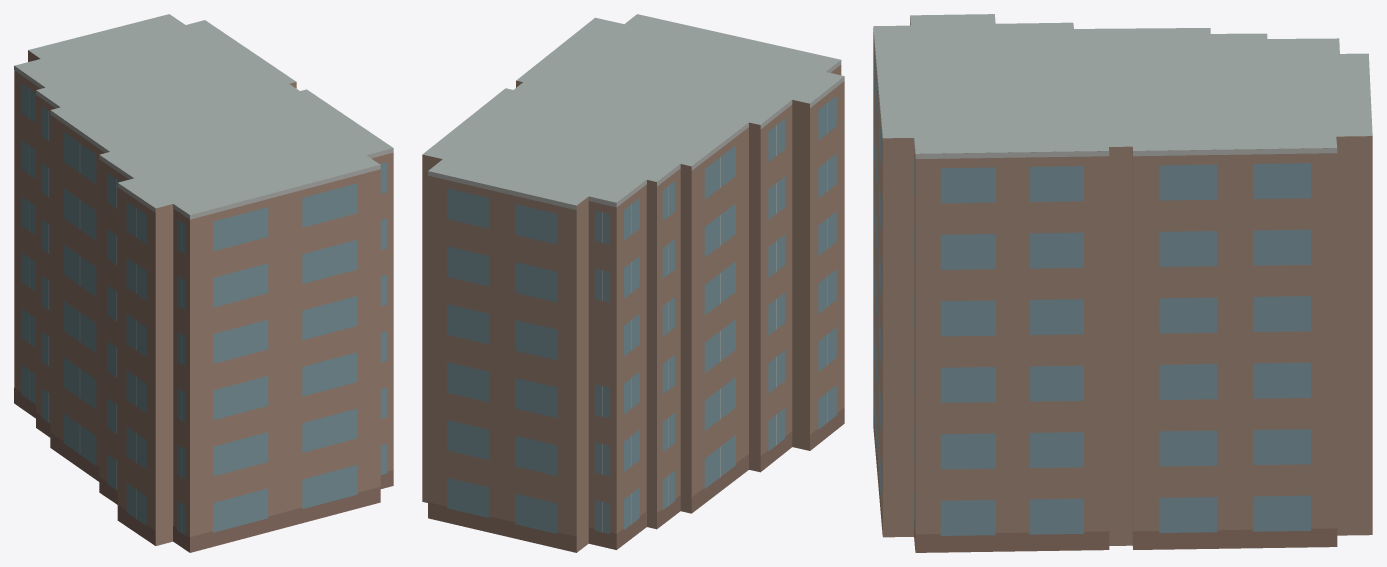
Rendered from survey-upis-32746365.glb.
The picture shows the model from 3 angles, left to right: view 1: azimuth 30°, elevation 25°; view 2: azimuth 150°, elevation 25°; view 3: azimuth 270°, elevation 25°; orthographic projection. The views are drawn at different scales.
Visible parts, largest first — view 1: survey-upis-32746365.tmp; view 2: survey-upis-32746365.tmp; view 3: survey-upis-32746365.tmp.
Boxes of the visible parts, box(x1,y1,x2,y2) form: survey-upis-32746365.tmp: box(14, 14, 393, 552); survey-upis-32746365.tmp: box(422, 14, 844, 552); survey-upis-32746365.tmp: box(873, 14, 1372, 552).
Bounding box in the file's own units: 13.84 × 18.4 × 20.88.
